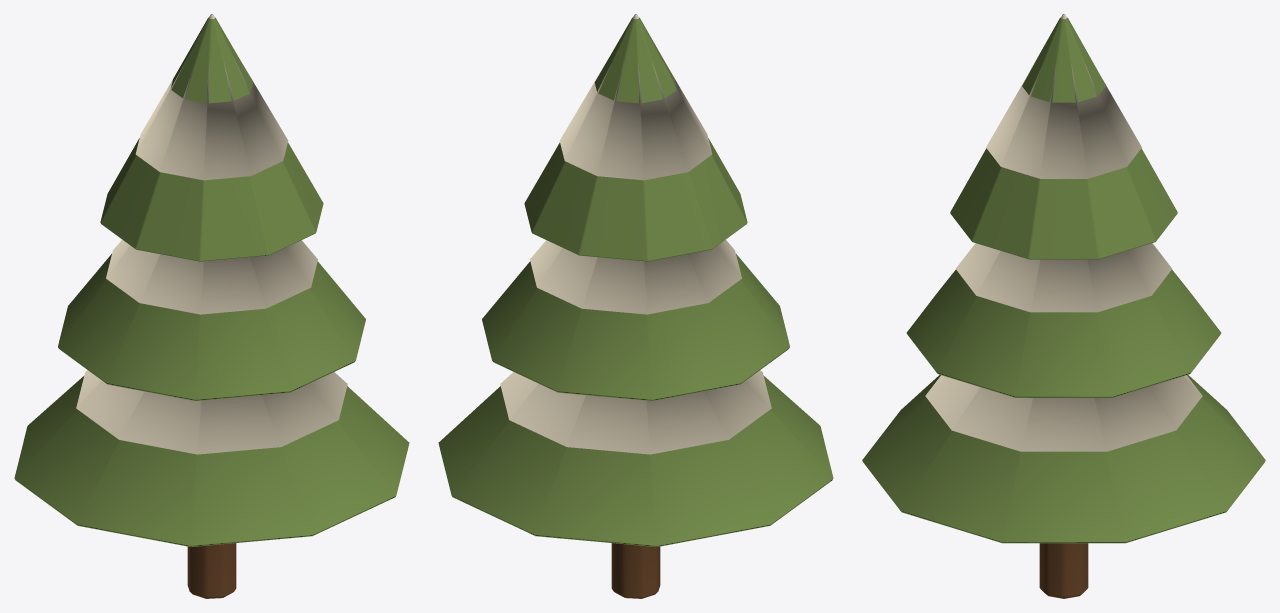
The model's file is pine.glb.
The picture shows the model from 3 angles, left to right: view 1: azimuth 30°, elevation 25°; view 2: azimuth 150°, elevation 25°; view 3: azimuth 270°, elevation 25°; orthographic projection.
Visible parts, largest first — view 1: pine; view 2: pine; view 3: pine.
Boxes of the visible parts, box(x1,y1,x2,y2) form: pine: box(14, 14, 409, 598); pine: box(438, 14, 833, 598); pine: box(862, 14, 1265, 598).
Bounding box in the file's own units: 3.01 × 4.98 × 3.17.
